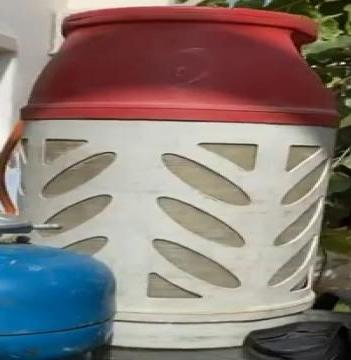cylinder: (1, 1, 351, 360)
